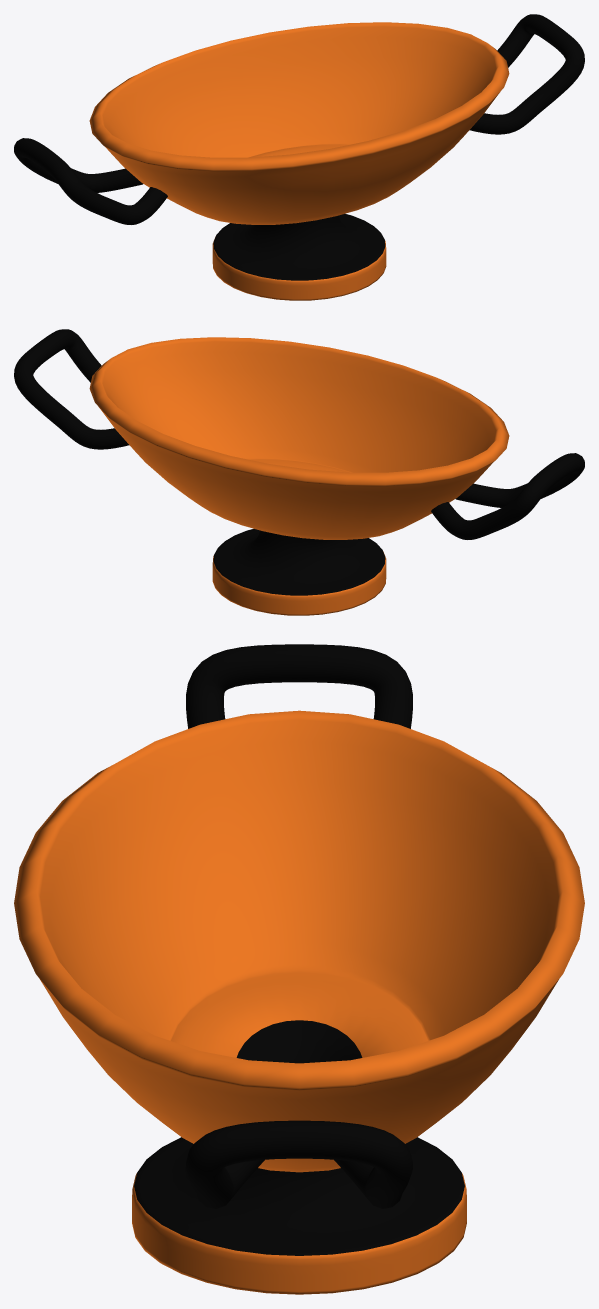
Rendered from GMP_kylix_01.fbx.
3 renders of one model, top to bottom at view 1: azimuth 30°, elevation 25°; view 2: azimuth 150°, elevation 25°; view 3: azimuth 270°, elevation 25°, orthographic. The views are drawn at different scales.
Visible parts, largest first — view 1: kylix, handles; view 2: kylix, handles; view 3: kylix, handles.
Part boxes in pixels (x1,y1,x2,y2): kylix: (89, 22, 509, 300); handles: (14, 14, 584, 224); kylix: (89, 337, 509, 615); handles: (14, 329, 584, 539); kylix: (14, 710, 584, 1294); handles: (186, 644, 412, 1208).
Bounding box in the file's own units: 90.11 × 28.96 × 44.1.
